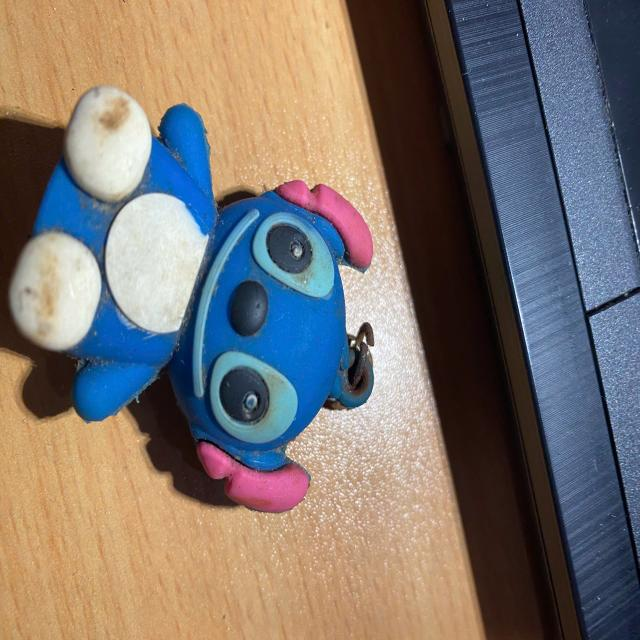stick: (8, 84, 376, 514)
